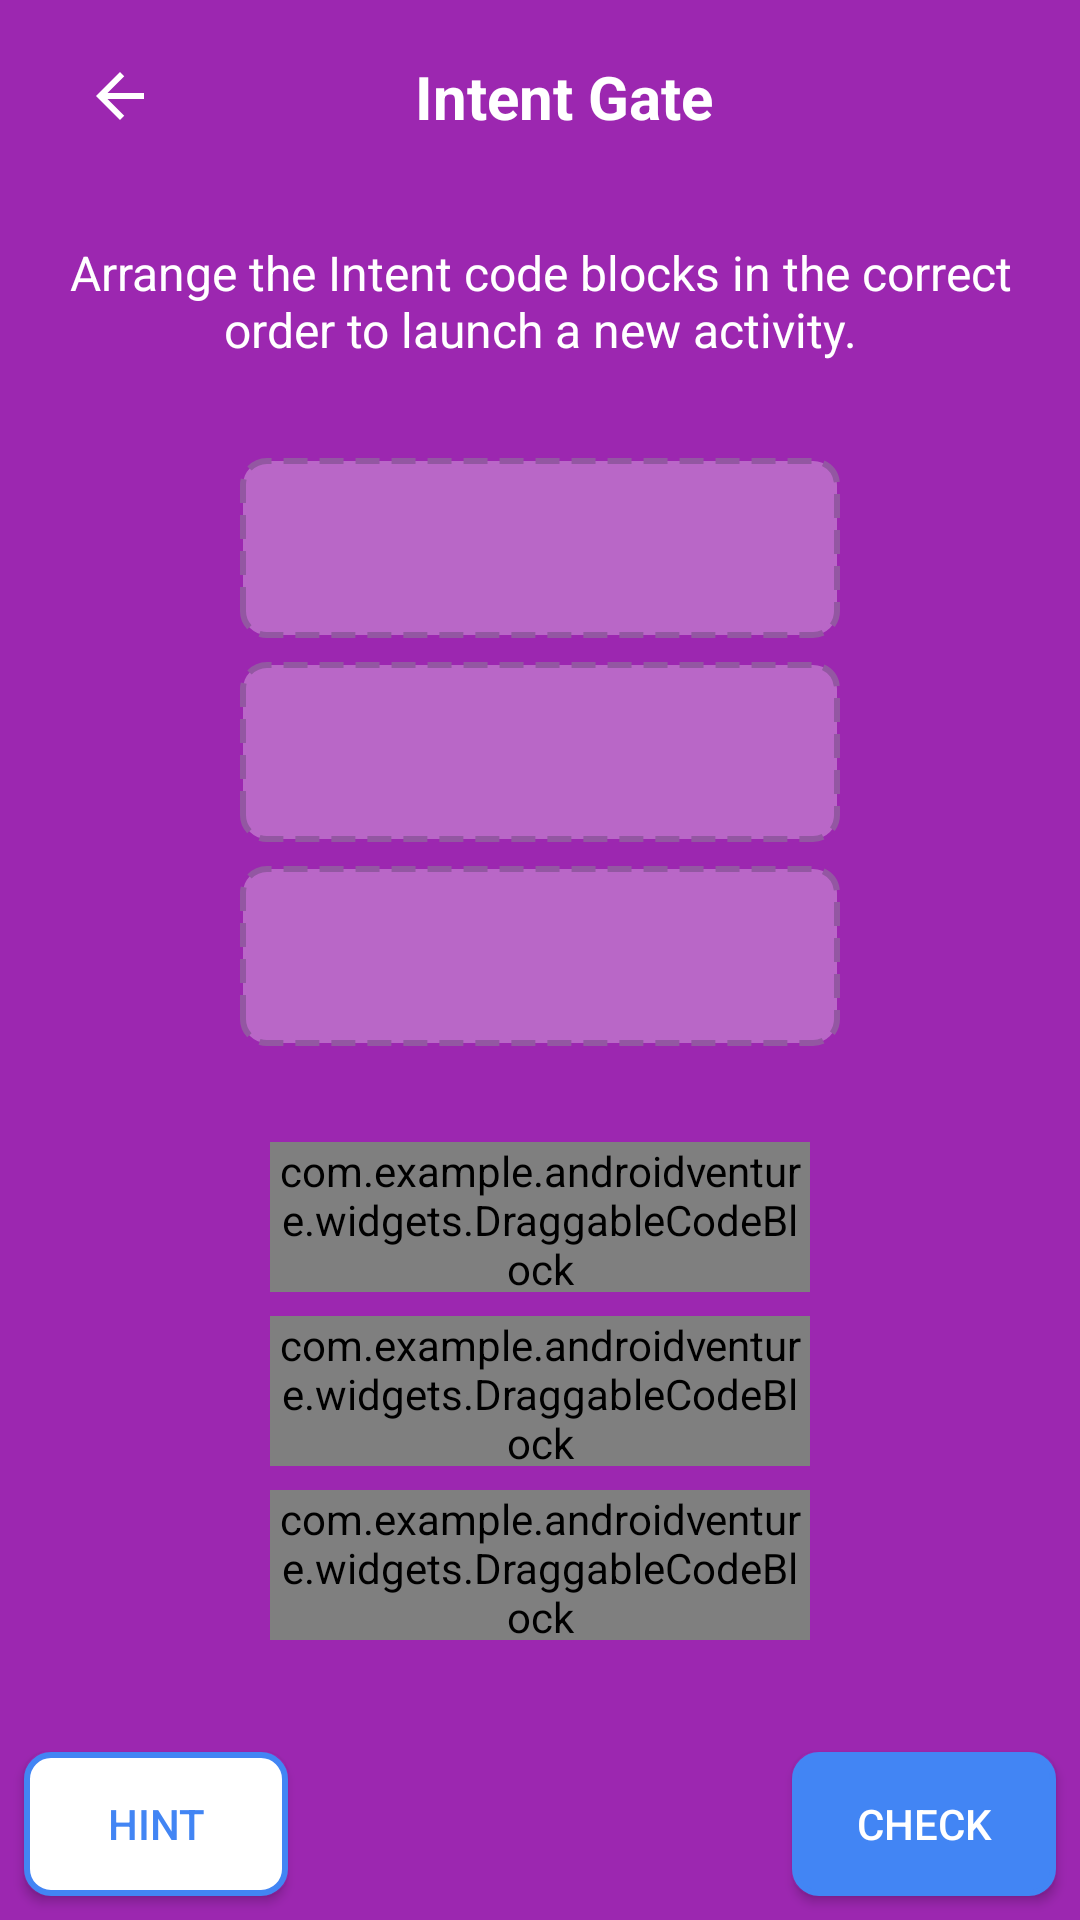

Icon click points for this 1080x1920 phone screenshot, format (x,y):
BACK: (120,96)
